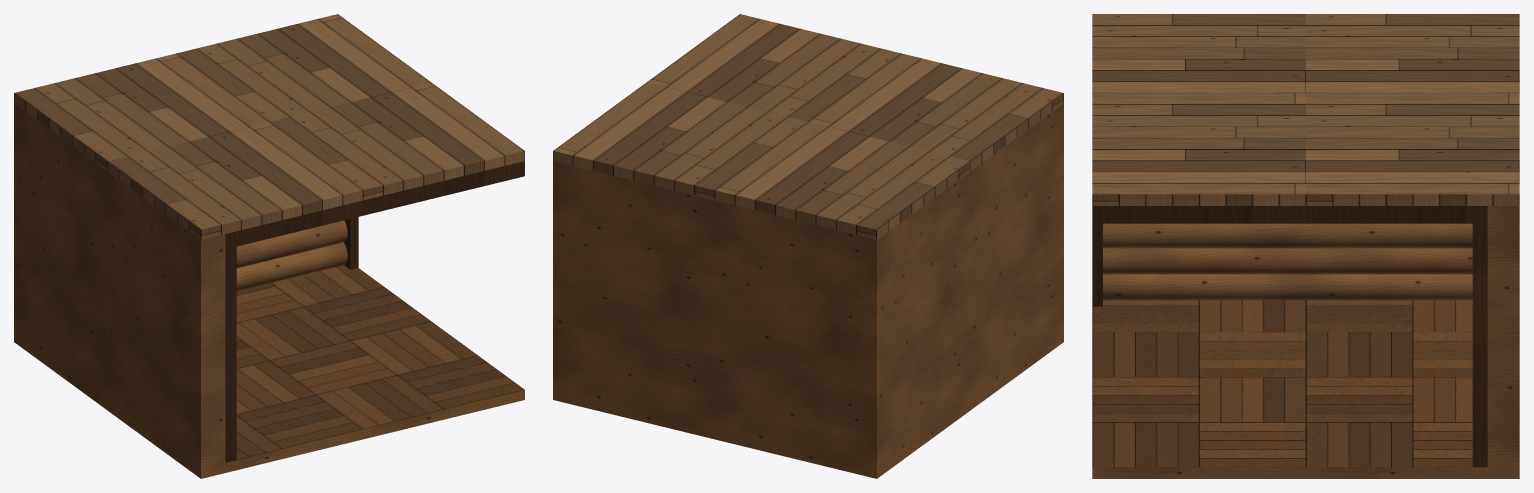
The model's file is Room_Cabin_Corner_NoLight.glb.
3 views of the same model, side by side, from view 1: azimuth 30°, elevation 25°; view 2: azimuth 150°, elevation 25°; view 3: azimuth 270°, elevation 25° (orthographic). The views are drawn at different scales.
Visible parts, largest first — view 1: Room_Cabin_Corner_NoLight, Room_Cabin_Corner_NoLight_Ceiling; view 2: Room_Cabin_Corner_NoLight, Room_Cabin_Corner_NoLight_Ceiling; view 3: Room_Cabin_Corner_NoLight, Room_Cabin_Corner_NoLight_Ceiling.
Boxes of the visible parts, x1,y1,x2,y2 form: Room_Cabin_Corner_NoLight: [14, 103, 524, 478]; Room_Cabin_Corner_NoLight_Ceiling: [14, 14, 524, 246]; Room_Cabin_Corner_NoLight: [553, 103, 1063, 478]; Room_Cabin_Corner_NoLight_Ceiling: [553, 14, 1063, 239]; Room_Cabin_Corner_NoLight: [1092, 206, 1519, 478]; Room_Cabin_Corner_NoLight_Ceiling: [1092, 14, 1519, 223].
Bounding box in the file's own units: 4 × 2.94 × 4.
Materials: 5 (5 with a texture image).
